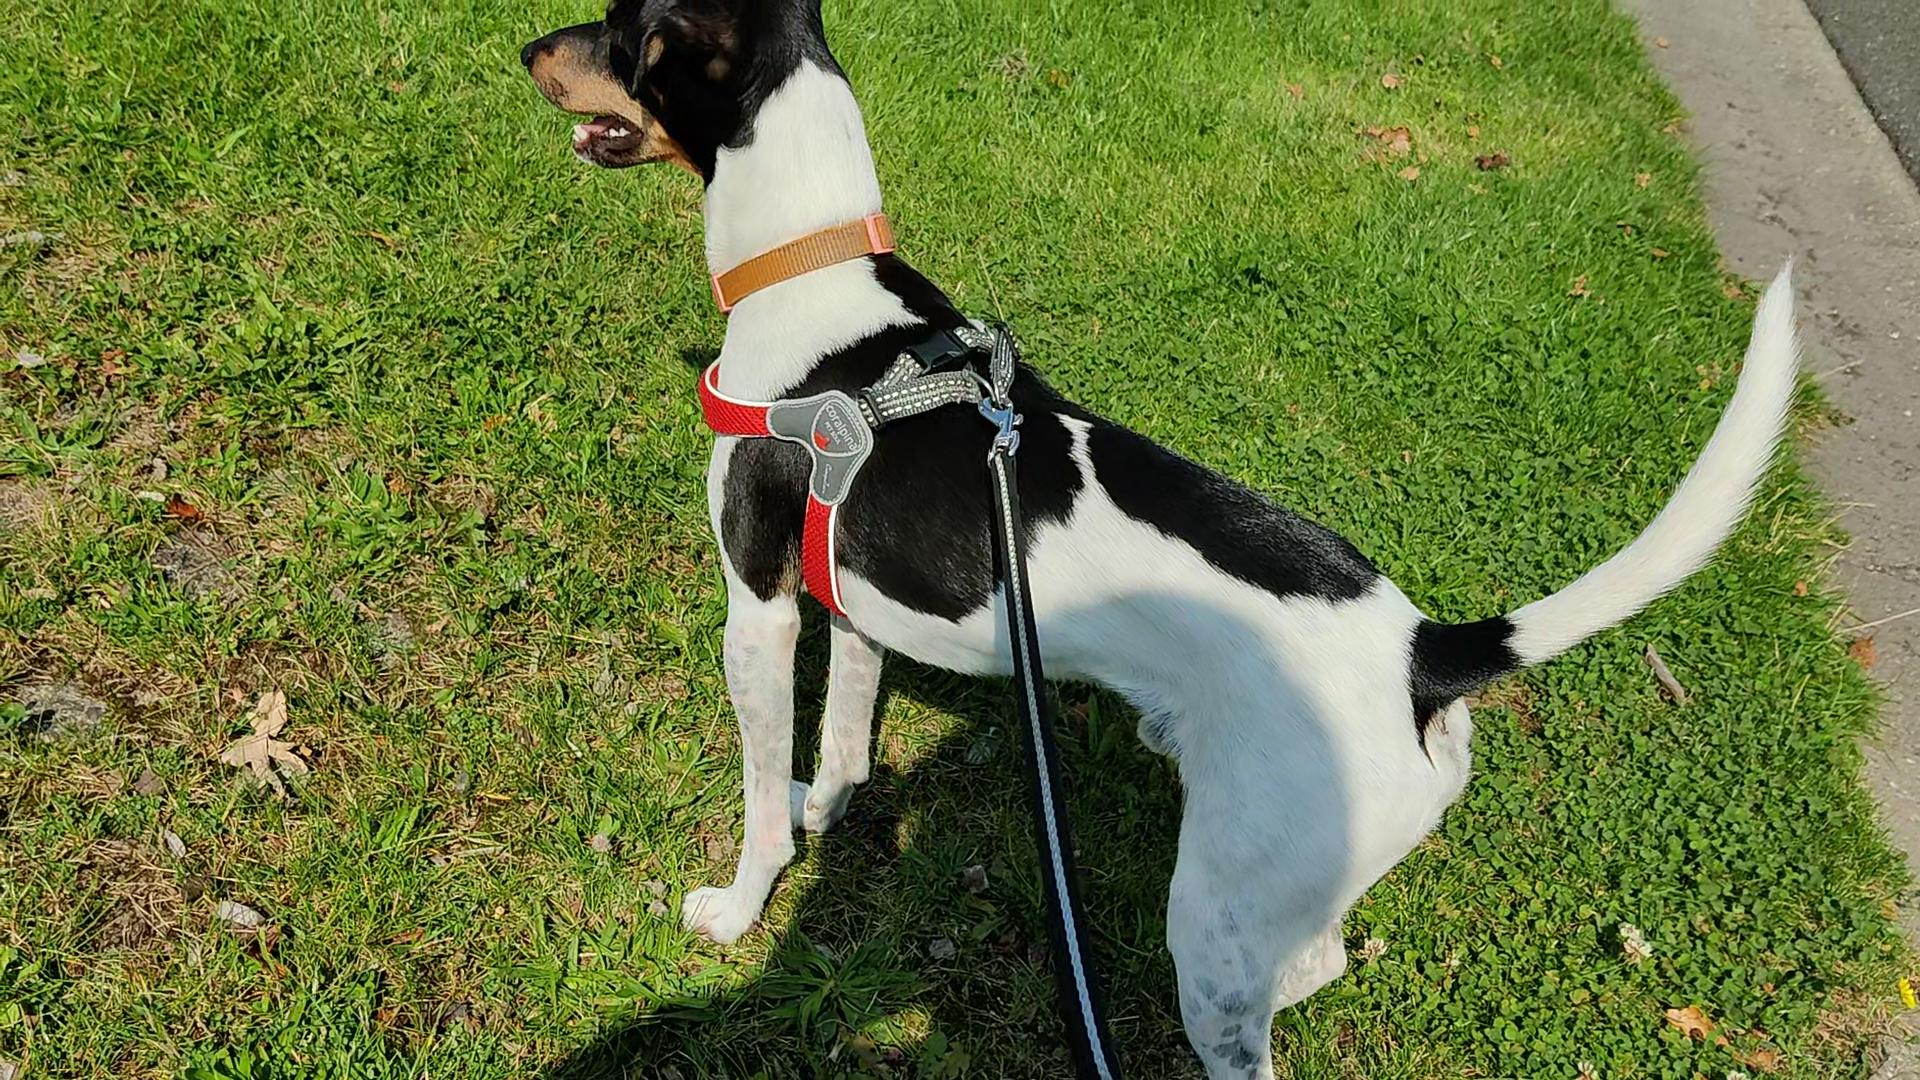Dog: (516, 0, 1803, 1080)
